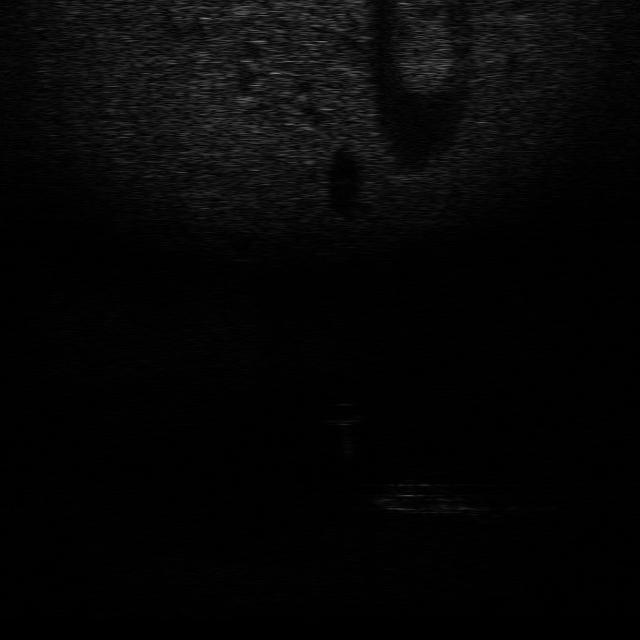ball: (316, 399, 365, 426)
tyre: (369, 479, 475, 518)
